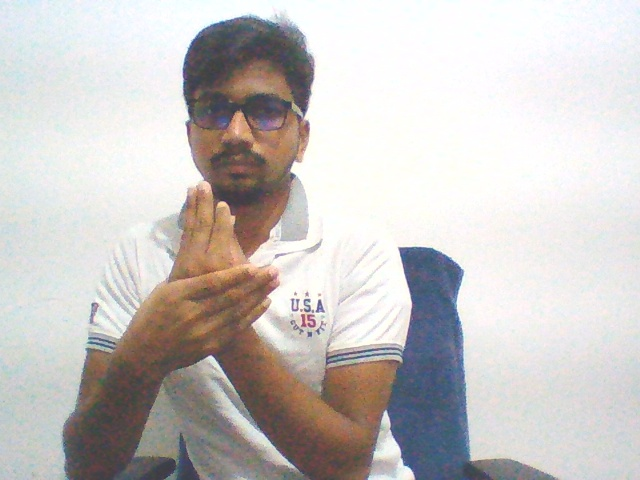tree: (107, 174, 285, 405)
